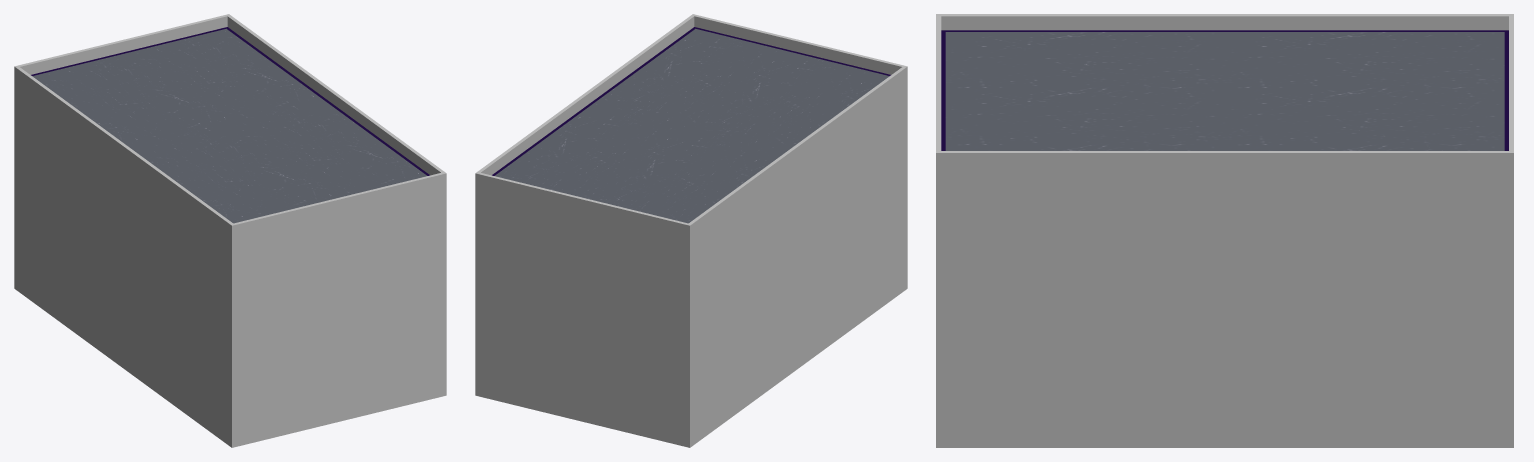
Rendered from Duel_A1_Stage_Scaffold.fbx.
The picture shows the model from 3 angles, left to right: view 1: azimuth 30°, elevation 25°; view 2: azimuth 150°, elevation 25°; view 3: azimuth 270°, elevation 25°; orthographic projection. The views are drawn at different scales.
Parts seen in each view (by area): view 1: Platform_Cube__1_.017, Platform_Cube__1_.019, Platform_Cube__1_.020; view 2: Platform_Cube__1_.017, Platform_Cube__1_.019, Platform_Cube__1_.020; view 3: Platform_Cube__1_.017, Platform_Cube__1_.019, Platform_Cube__1_.020.
Part boxes in pixels (x1,y1,x2,y2): Platform_Cube__1_.017: [14, 28, 446, 447]; Platform_Cube__1_.019: [14, 14, 446, 236]; Platform_Cube__1_.020: [31, 27, 429, 175]; Platform_Cube__1_.017: [475, 28, 907, 447]; Platform_Cube__1_.019: [475, 14, 907, 236]; Platform_Cube__1_.020: [492, 27, 890, 175]; Platform_Cube__1_.017: [936, 32, 1513, 447]; Platform_Cube__1_.019: [936, 14, 1513, 167]; Platform_Cube__1_.020: [941, 30, 1508, 150].
Size of the model in its own units: 3189 by 3154 by 5657.
